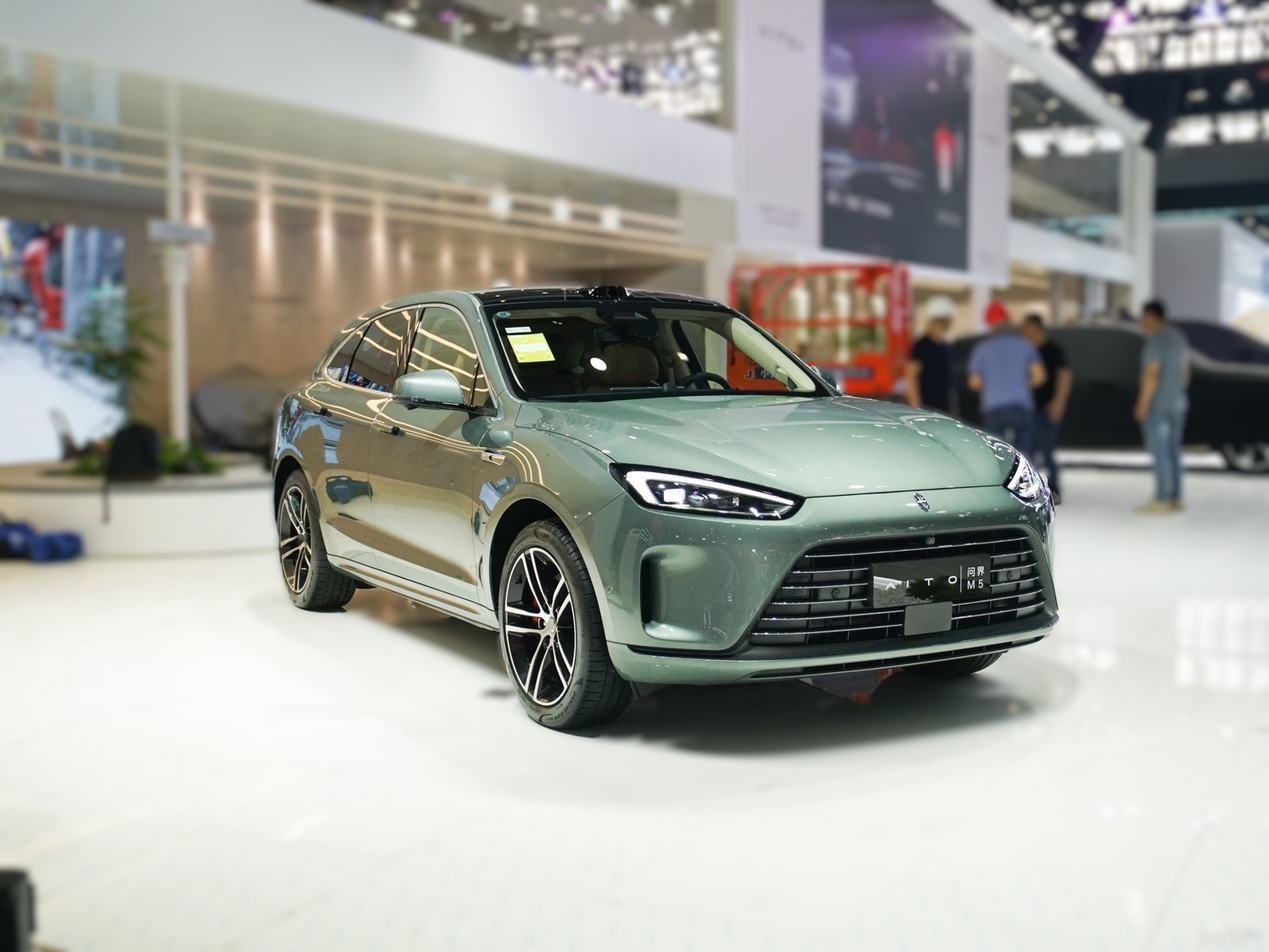AITO: (914, 493, 930, 512)
